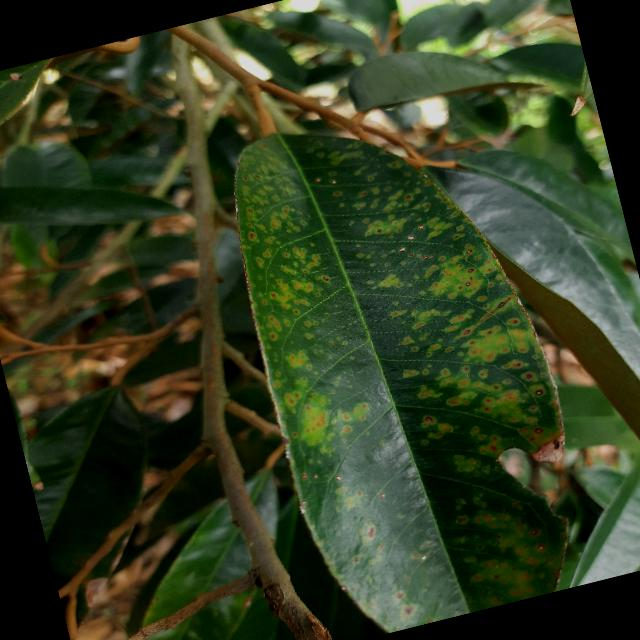Leaf Spot: (198, 61, 614, 639)
